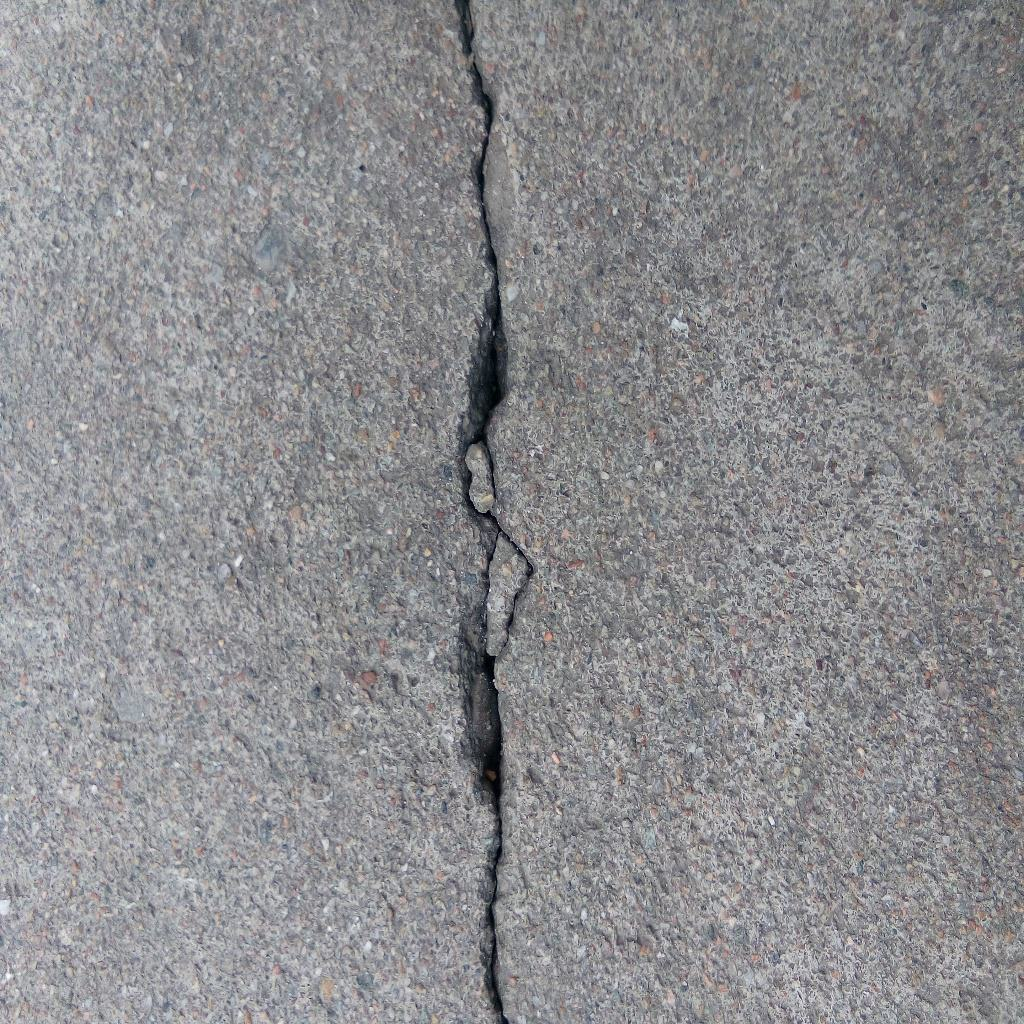Crack: (452, 1, 537, 1024)
